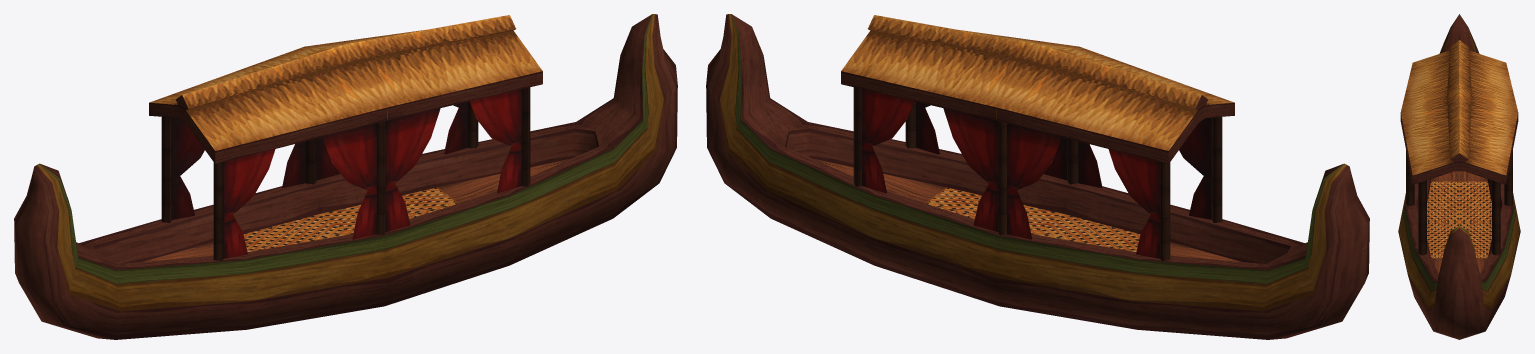
The model's file is Boat_02.FBX.
The picture shows the model from 3 angles, left to right: view 1: azimuth 30°, elevation 25°; view 2: azimuth 150°, elevation 25°; view 3: azimuth 270°, elevation 25°; orthographic projection. The views are drawn at different scales.
Parts seen in each view (by area): view 1: Boat_02; view 2: Boat_02; view 3: Boat_02.
Boxes of the visible parts, x1,y1,x2,y2 form: Boat_02: (14,14,677,339); Boat_02: (706,14,1369,339); Boat_02: (1398,14,1520,339).
Bounding box in the file's own units: 8.25 × 1.87 × 2.95.
